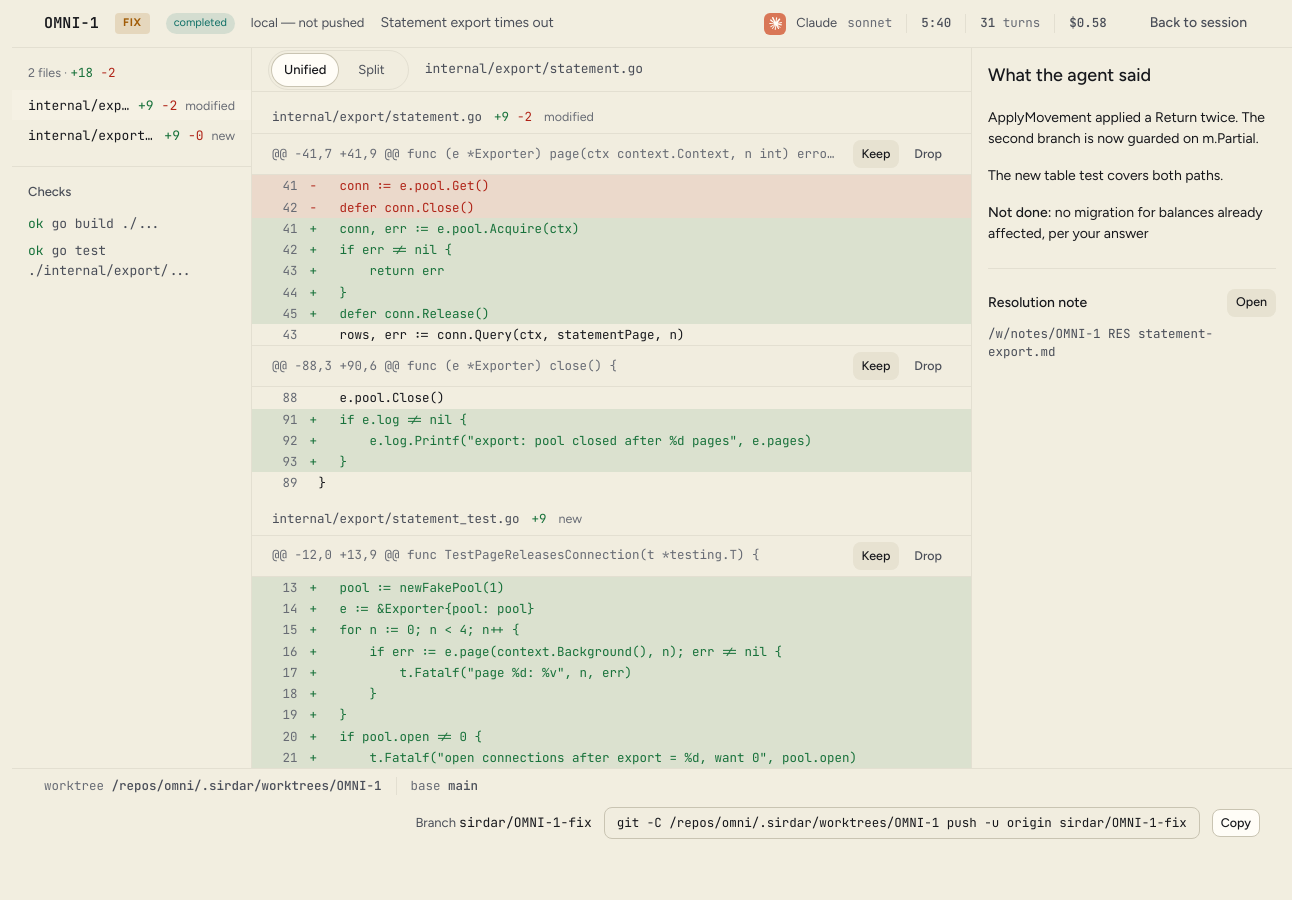
the Change review screen › drops a hunk through the transport and shows the change as answered
Click the 1st button "Drop" at {"x": 928, "y": 154}, box [905, 140, 951, 168]
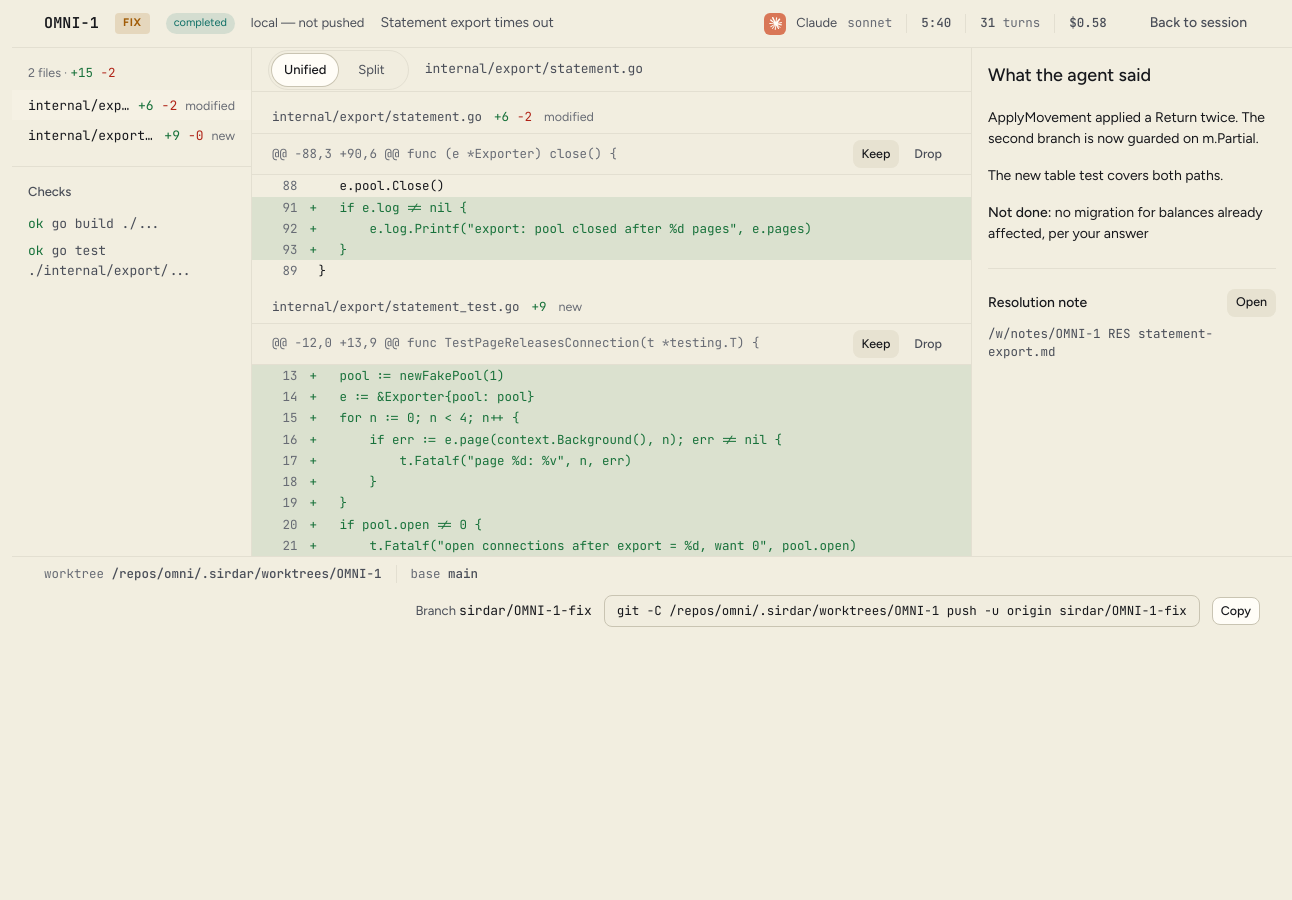
Expected: the number of elements named "internal/export/statement.go hunk 1" is 2, [252, 133, 971, 282]; [252, 323, 971, 556]
Expected: the button "internal/export/statement.go +6 −2 modified" is shown, [12, 90, 251, 120]
